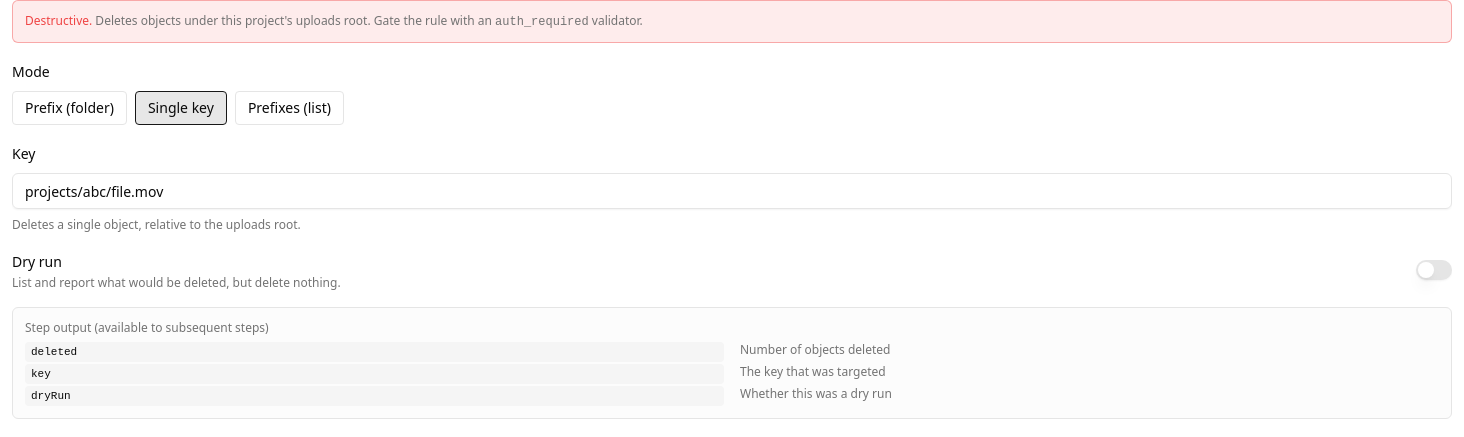
Test: FileDeleteHandlerConfig › can switch key → prefix → key and back to the key field
The image size is (1464, 437).
Expected: the field showing "projects/abc/file.mov" is shown, [12,173,1452,209]
// Key → Prefix (clears the key).
Step 1. Click the button "Prefix (folder)" → (69, 108), box [12,91,127,125]
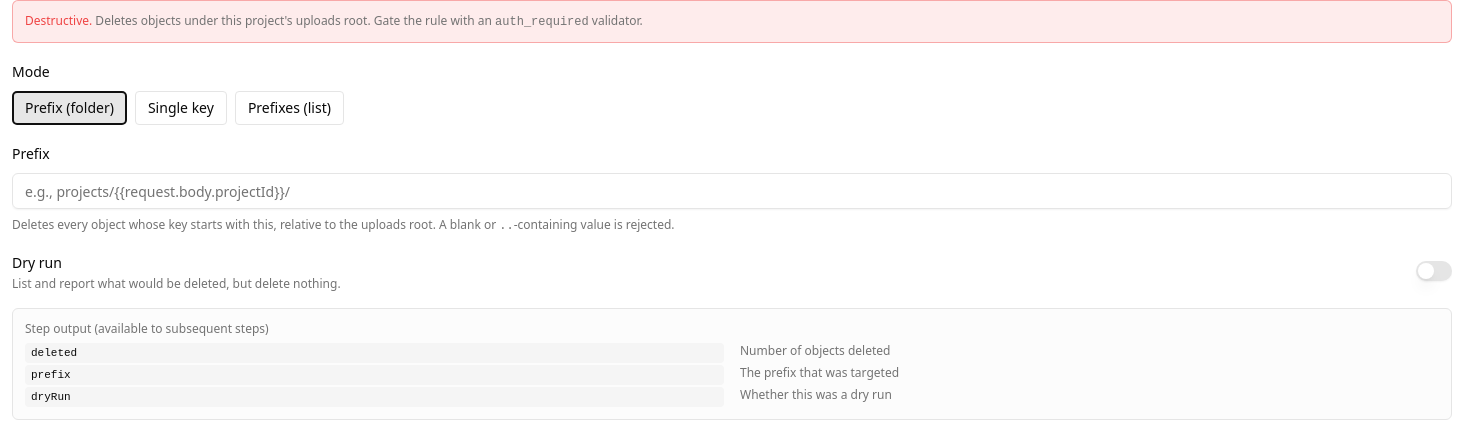
Expected: the field with placeholder "e.g., projects/{{request.body.projectId}}/" is shown, [12,173,1452,209]
// Prefix → Key: the key input must come back even though key is empty.
Step 2. Click the button "Single key" → (181, 108), box [135,91,227,125]
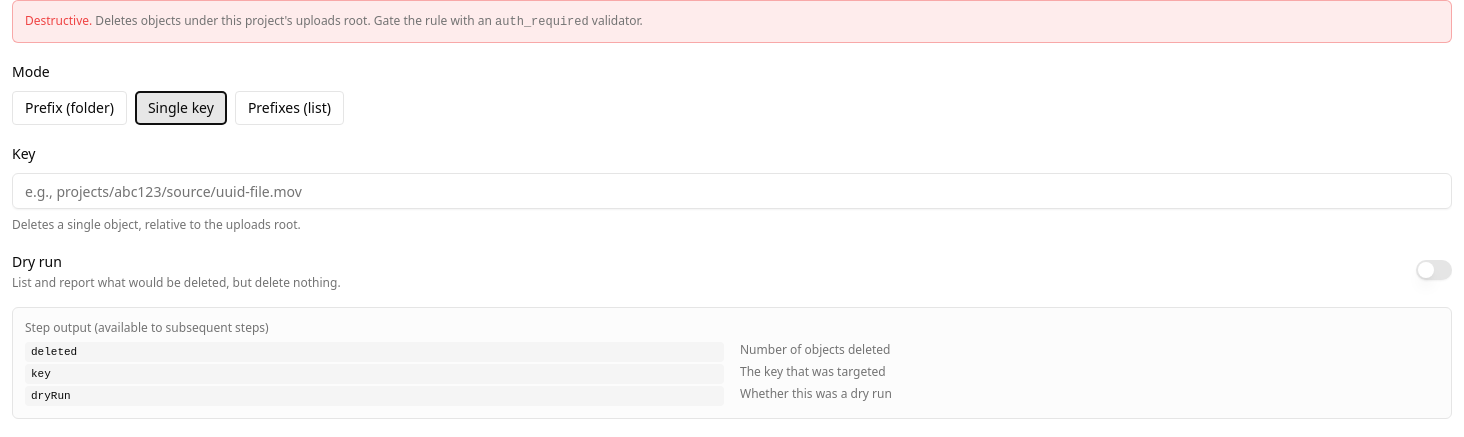
Expected: the field with placeholder "e.g., projects/{{request.body.projectId}}/" is not shown
Expected: the field with placeholder "e.g., projects/abc123/source/uuid-file.mov" is shown, [12,173,1452,209]
